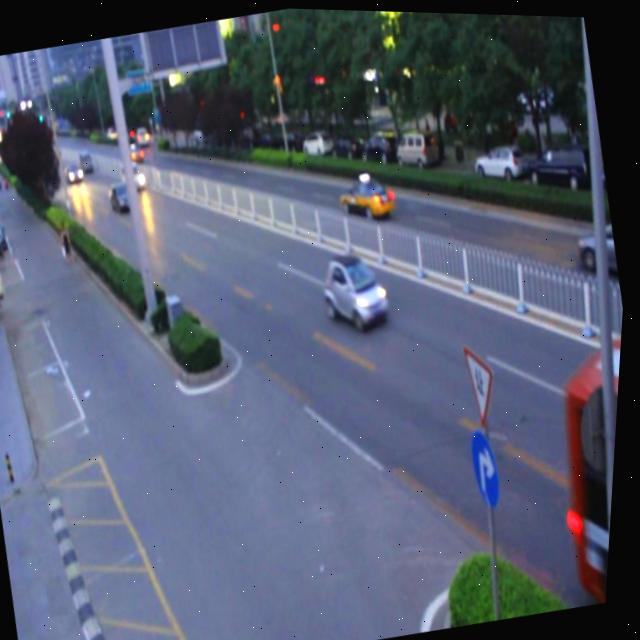car: (319, 247, 395, 331), (572, 212, 625, 282), (336, 168, 399, 223), (109, 179, 139, 216)
truck: (121, 160, 150, 192)
van: (537, 321, 626, 603)
